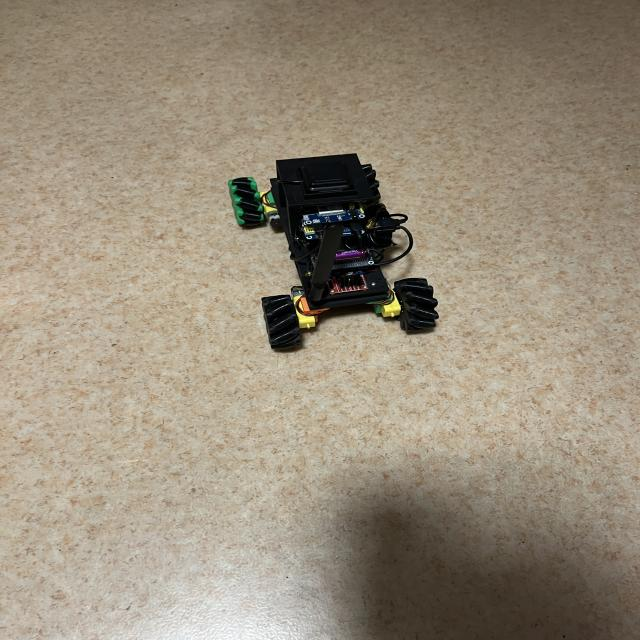robot: (229, 154, 439, 349)
